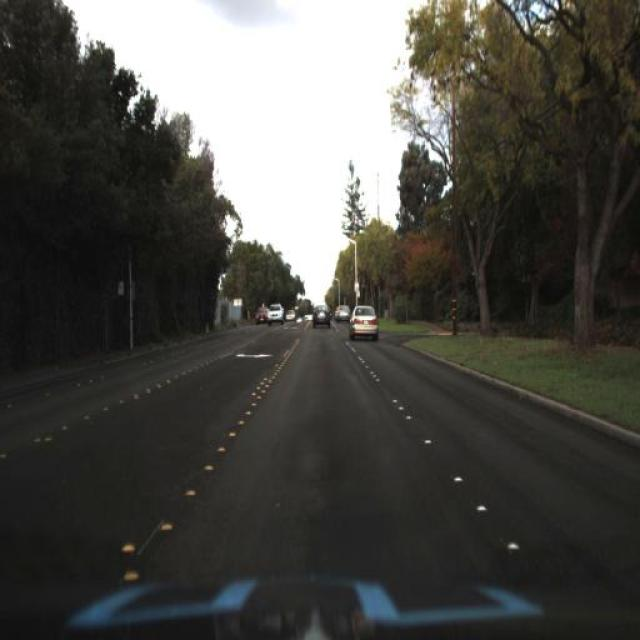car: (348, 296, 378, 340), (334, 300, 356, 329), (310, 299, 330, 330), (267, 296, 284, 329), (286, 305, 300, 330), (334, 300, 348, 325), (254, 302, 266, 328)
